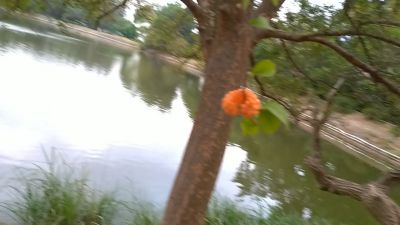eggs: (222, 87, 262, 118)
